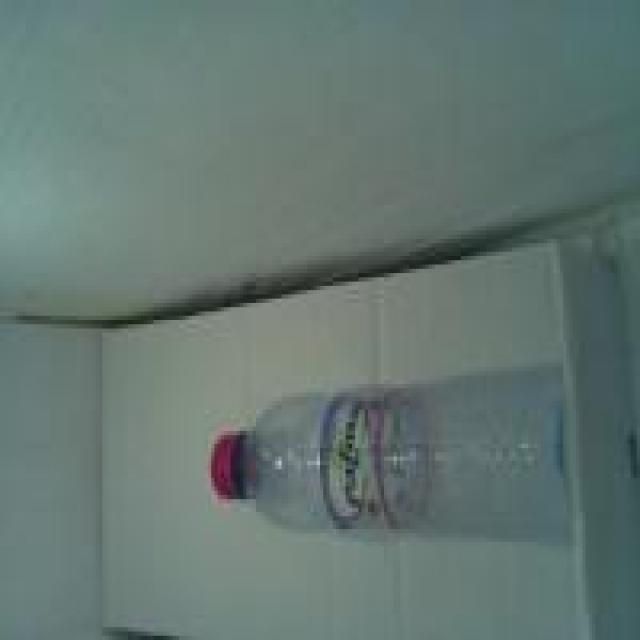Pet_Bottle: (208, 367, 566, 542)
